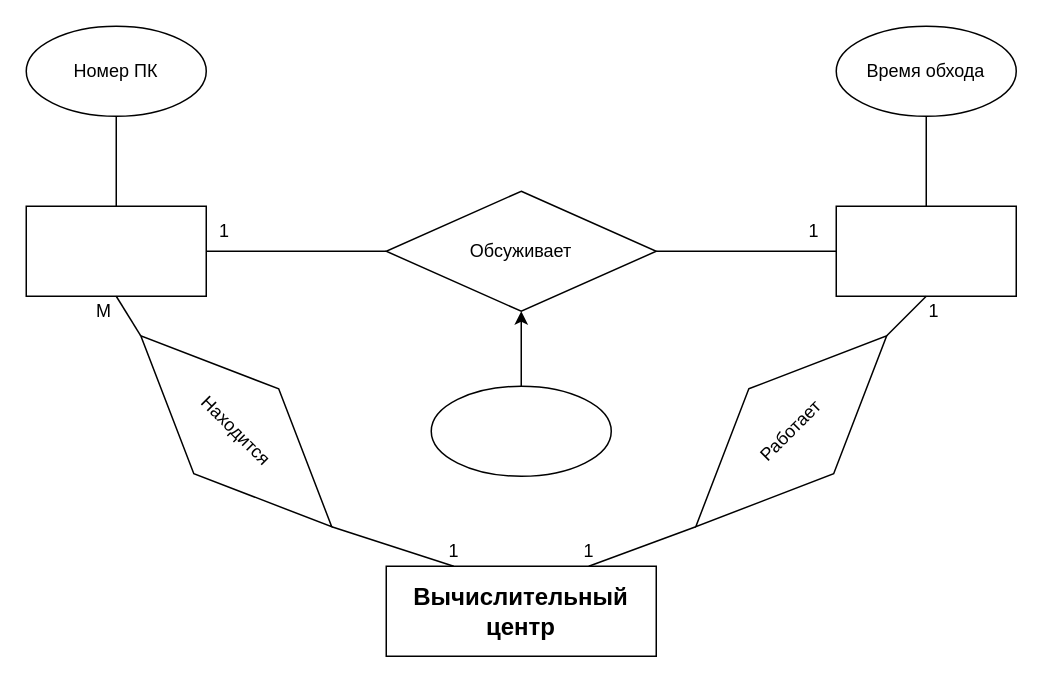
Some shapes in this 1043 by 683 pixel diagram are drawn without their labels. The box of each missing label's shape, as (x1, y1, x2, y2) in pixels:
Инженер: (835, 205, 1016, 296)
ПК: (25, 205, 206, 296)
ПК в очереди: (430, 385, 611, 476)
